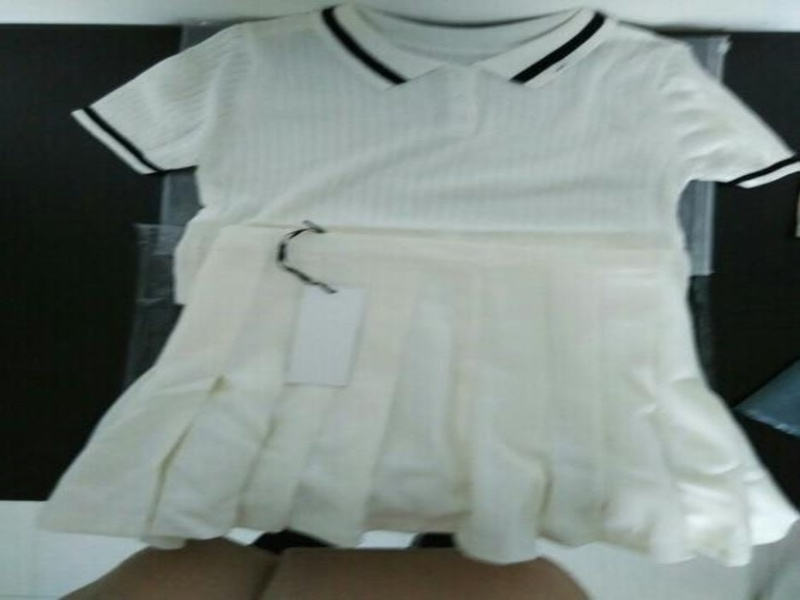short_sleeved_shirt: (70, 4, 793, 312)
skirt: (34, 226, 798, 568)
